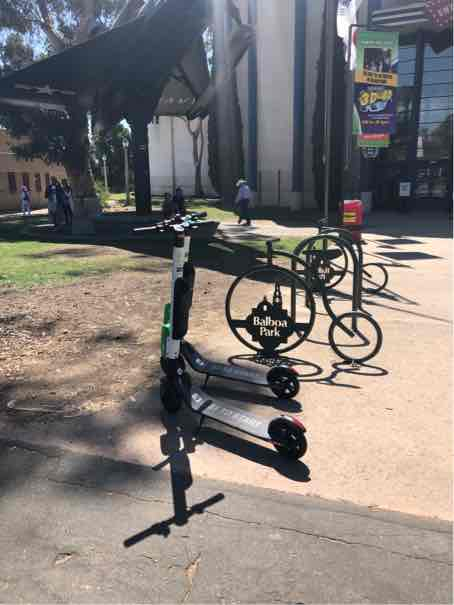scooter: (133, 204, 312, 445)
